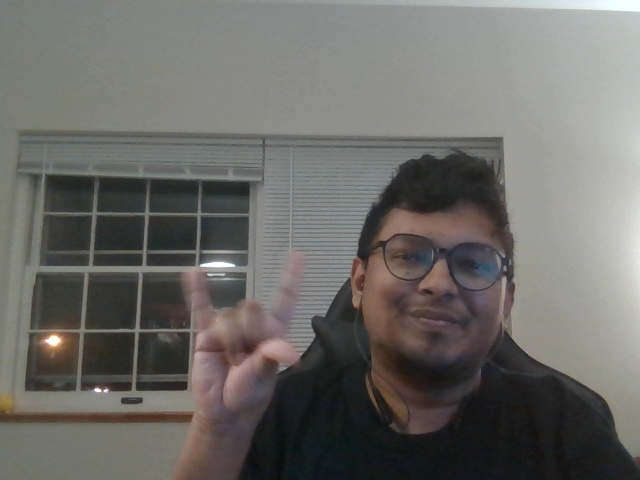ilikeyou: (156, 240, 328, 429)
